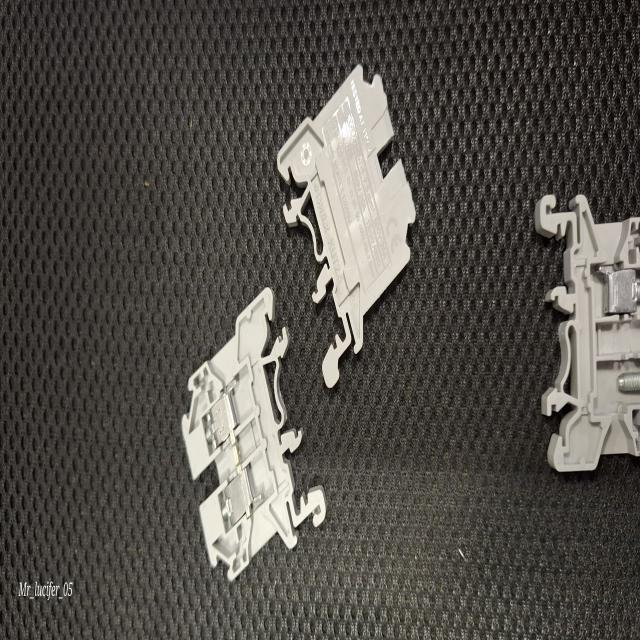Inverted: (274, 54, 417, 387)
Pass: (178, 280, 328, 593)
